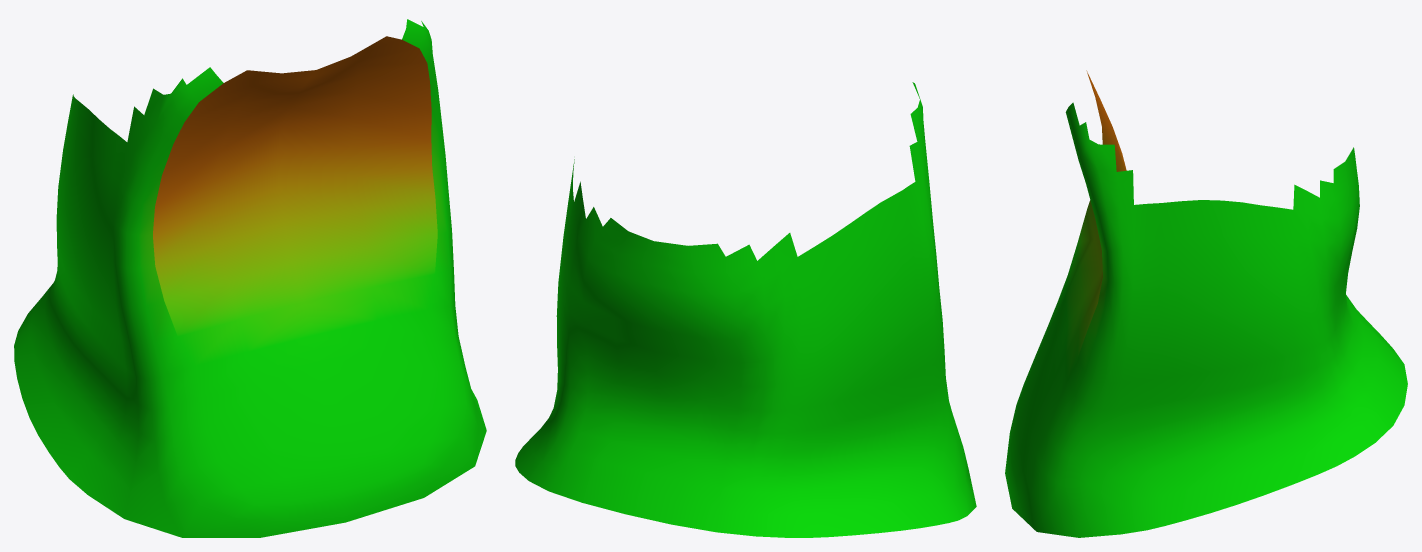
Rendered from Cap2_132.glb.
3 renders of one model, left to right at view 1: azimuth 30°, elevation 25°; view 2: azimuth 150°, elevation 25°; view 3: azimuth 270°, elevation 25°, orthographic. The views are drawn at different scales.
Parts seen in each view (by area): view 1: 2HAIR; view 2: 2HAIR; view 3: 2HAIR.
Part boxes in pixels (x1,y1,x2,y2): 2HAIR: (14,19,486,537); 2HAIR: (515,82,976,537); 2HAIR: (1005,70,1407,537).
Bounding box in the file's own units: 70.68 × 76.65 × 67.4.
